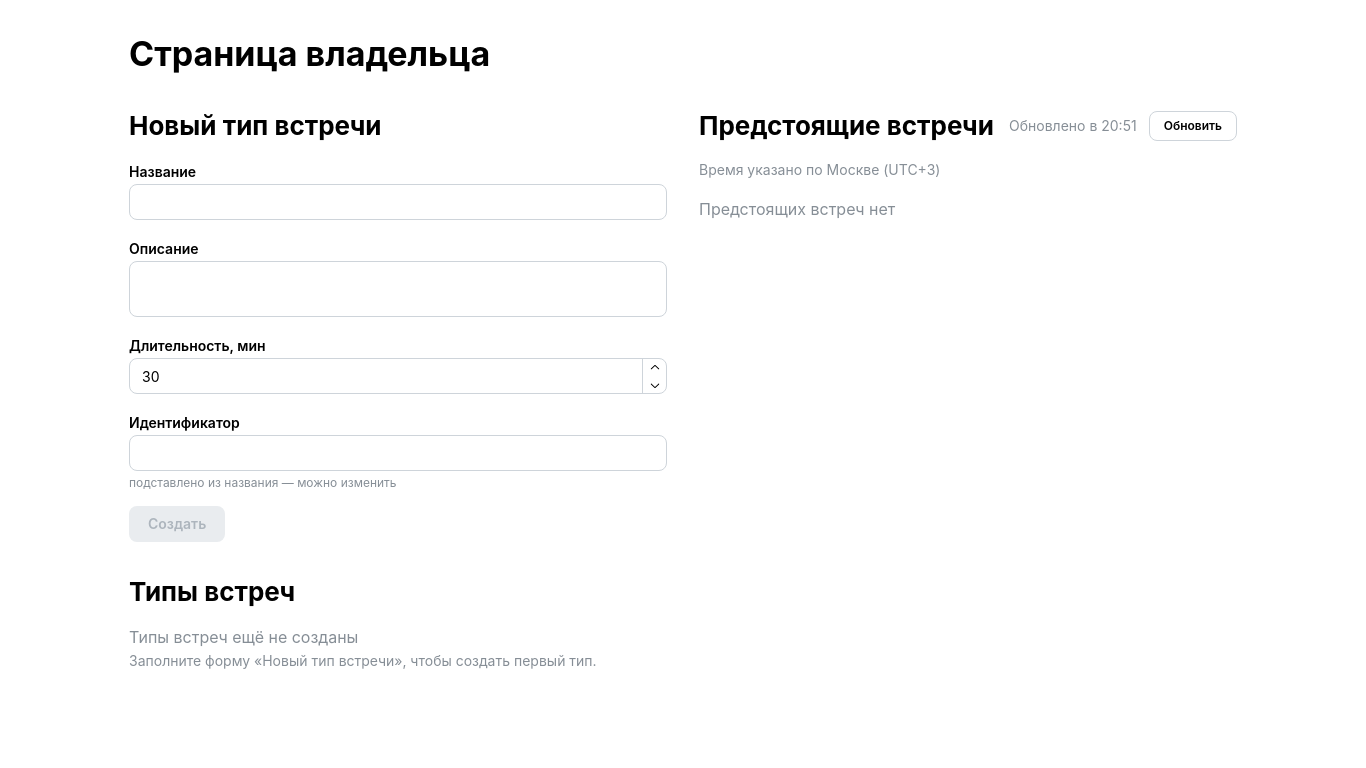
owner page › shows the same collision text when the server answers 409 meeting-type-exists
This screenshot has width=1366, height=768.
Step 1. Type "Знакомство" into the field labelled "Название" → (398, 202), box left=129, top=184, right=667, bottom=220
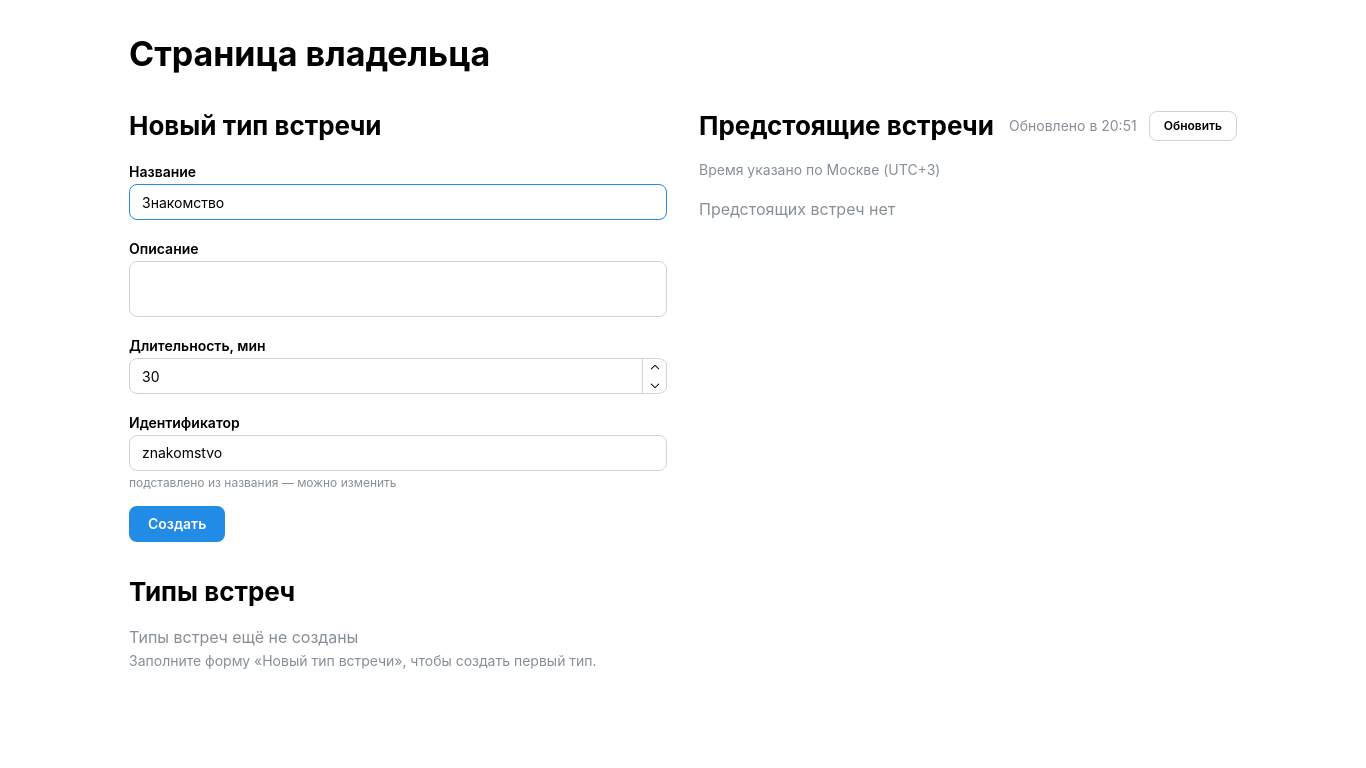
Step 2. Click the button "Создать" → click(177, 524), box left=129, top=506, right=225, bottom=542
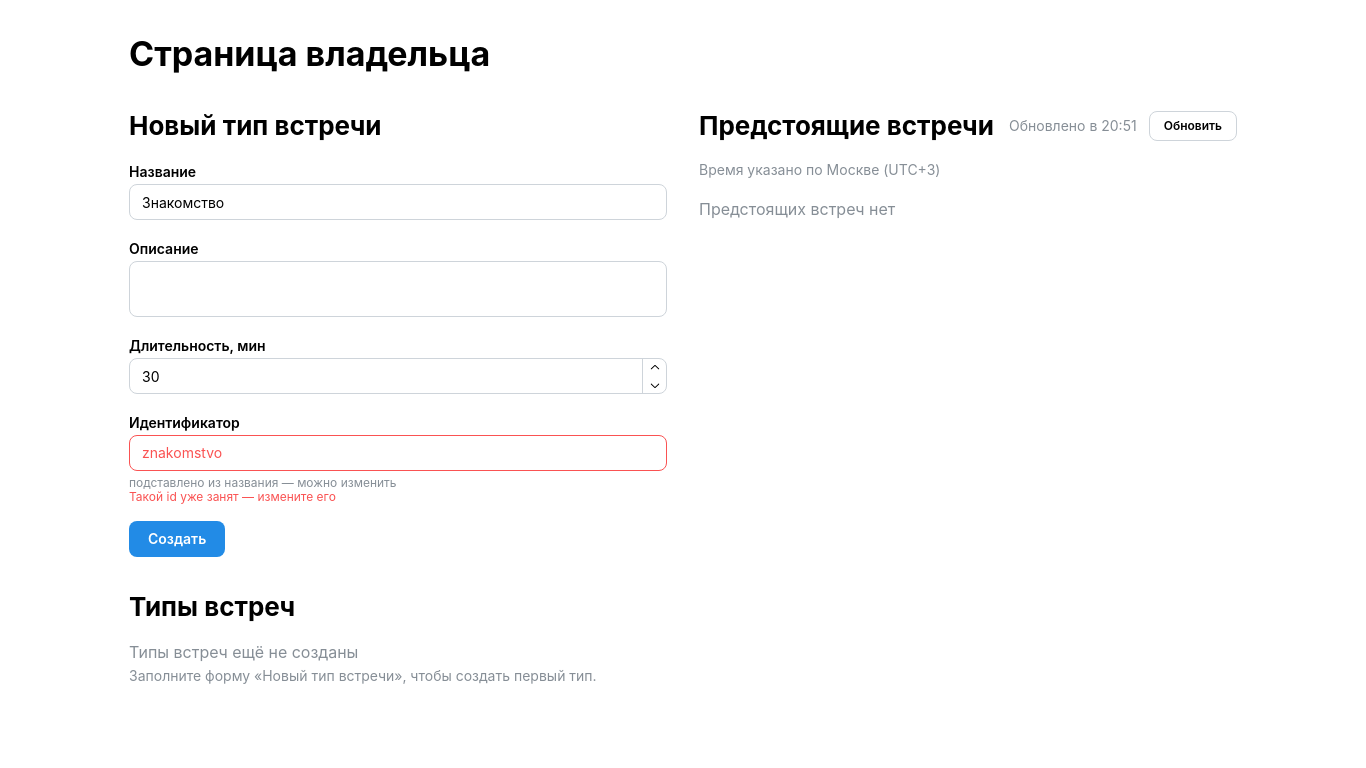
Now the field labelled "Идентификатор" holds "znakomstvo", box left=129, top=435, right=667, bottom=471
Now the text "Такой id уже занят — измените его" is shown, box left=129, top=489, right=336, bottom=504
